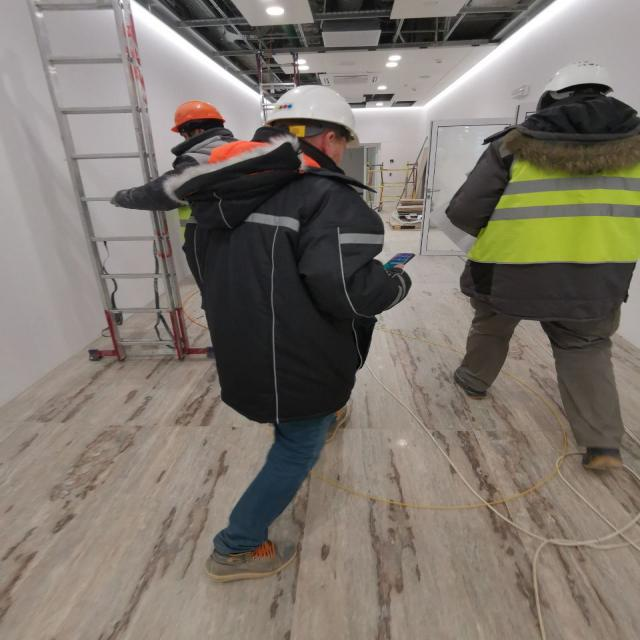Helmet: (266, 88, 361, 142), (537, 64, 614, 103), (172, 103, 226, 132)
Jacket: (506, 123, 640, 272)
NoJacket: (193, 170, 353, 387)
